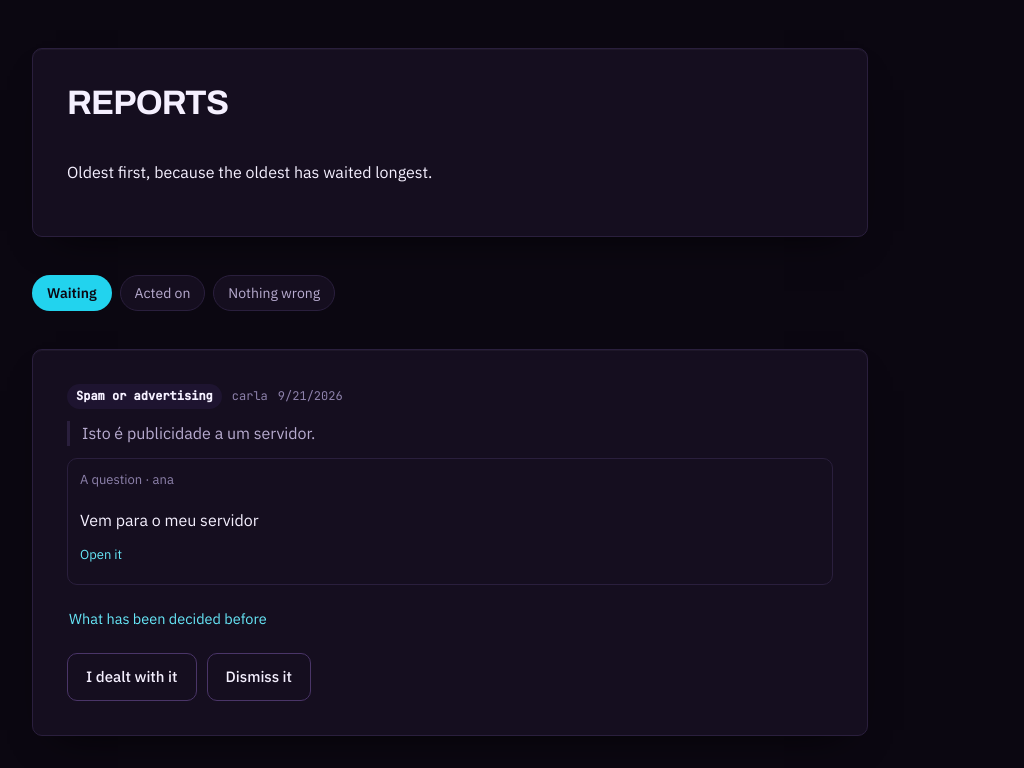
o historial ao lado da denúncia › e diz que conta decisões, e não denúncias recebidas
What coordinates should you click on to do the following:
click the button "What has been decided before"
I would click on:
 (168, 619)
Its box is [67,597,269,641].
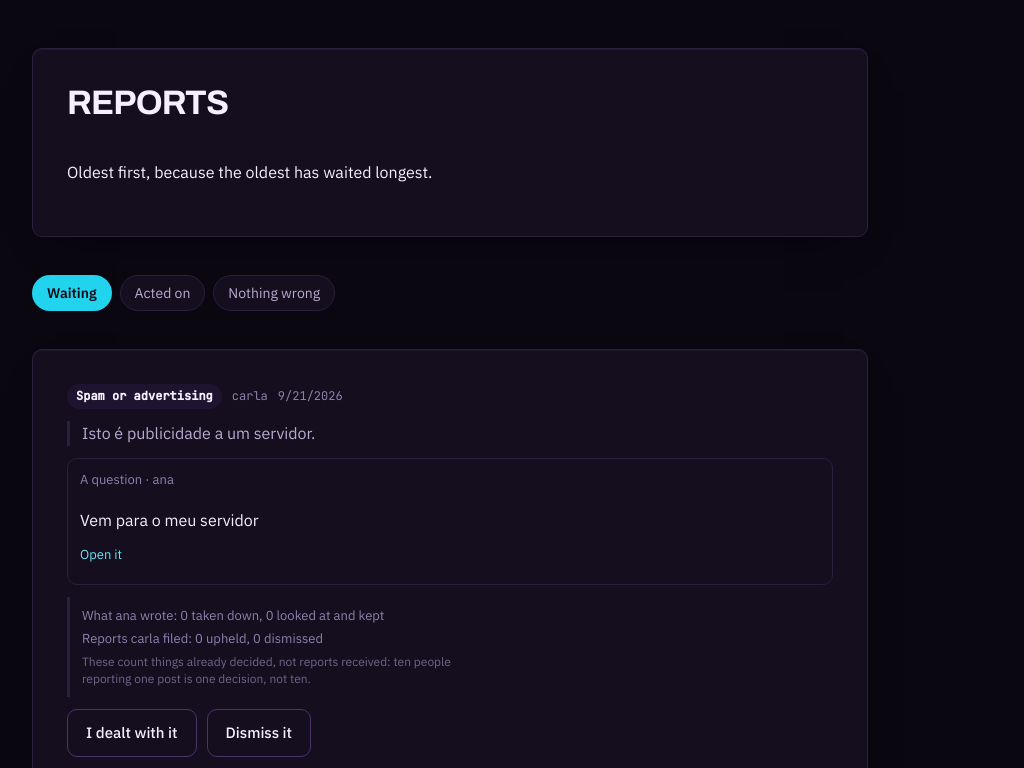
Now the text "These count things already decided, not reports received: ten people reporting one post is one decision, not ten." is shown, box [82,654,451,686]
